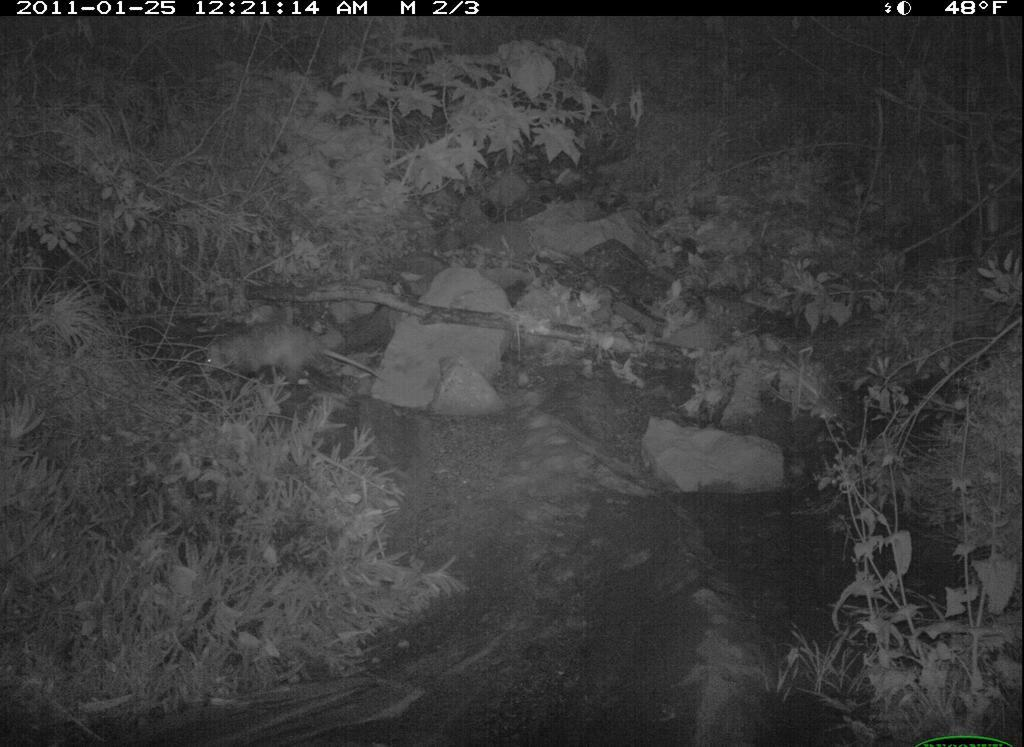opossum: (189, 318, 391, 400)
